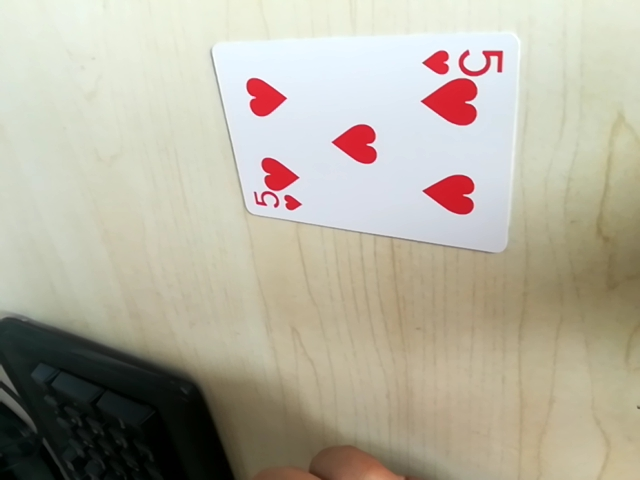hx 5: (420, 39, 504, 80), (249, 189, 305, 218)
